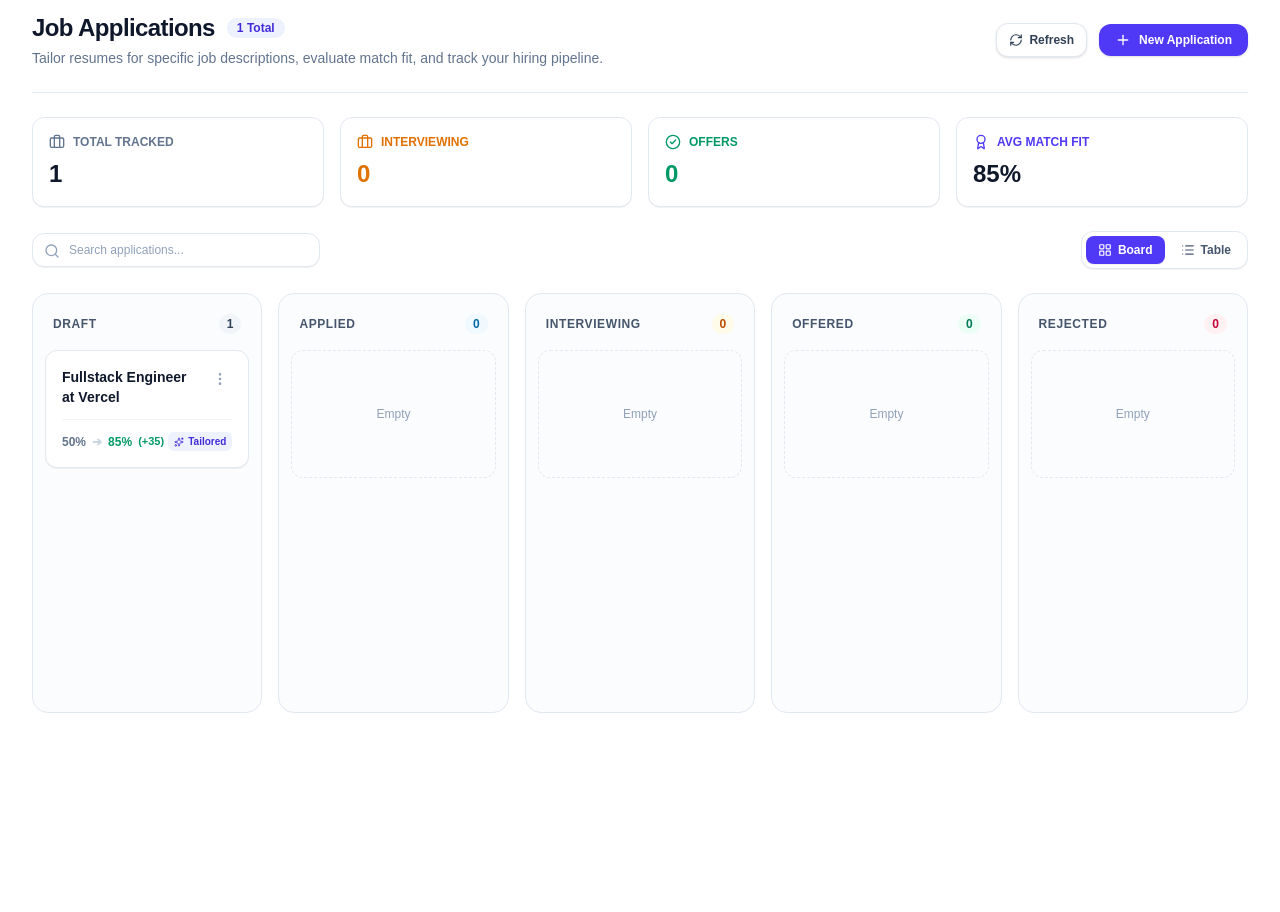
Test: Applications Components › ApplicationsDashboard › refreshes applications on refresh button click and updates metrics
Click the button with test id "refresh-applications-button" at (1042, 40), box [996,23,1087,57]
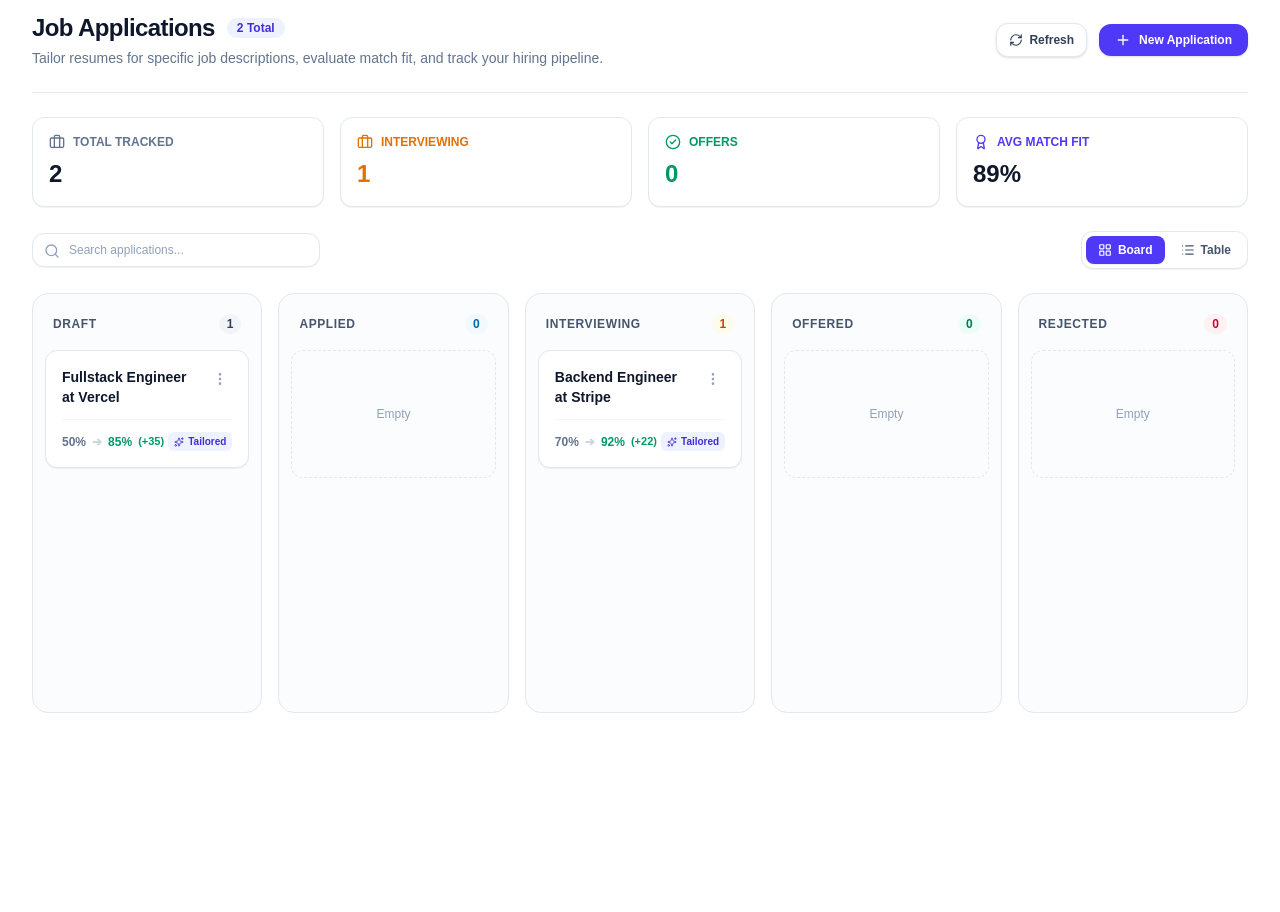
Expected: the text "2 Total" is shown, [227,18,285,38]
Expected: the link "Backend Engineer at Stripe" is shown, [555,367,693,407]
